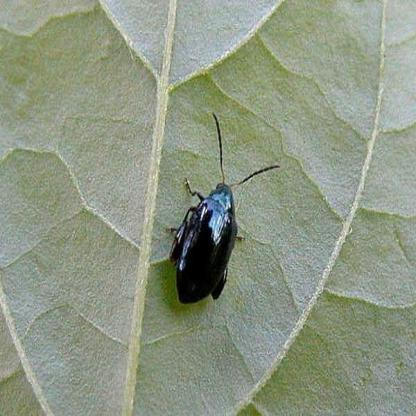beetle: (168, 113, 276, 311)
